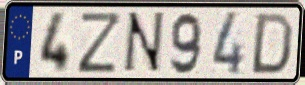4: (210, 9, 247, 78), (38, 10, 75, 76)
9: (169, 11, 204, 77)
D: (248, 10, 296, 76)
N: (120, 10, 167, 76)
Z: (76, 10, 125, 76)
